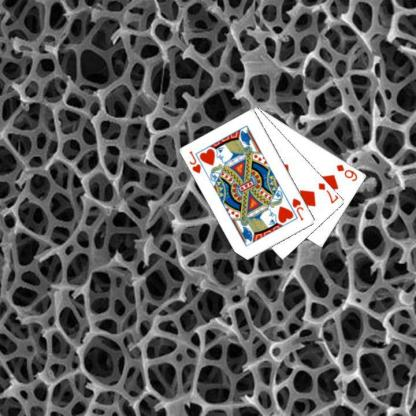6D: (334, 161, 359, 182)
7D: (316, 180, 339, 205)
JH: (290, 196, 305, 222), (187, 148, 202, 174)
